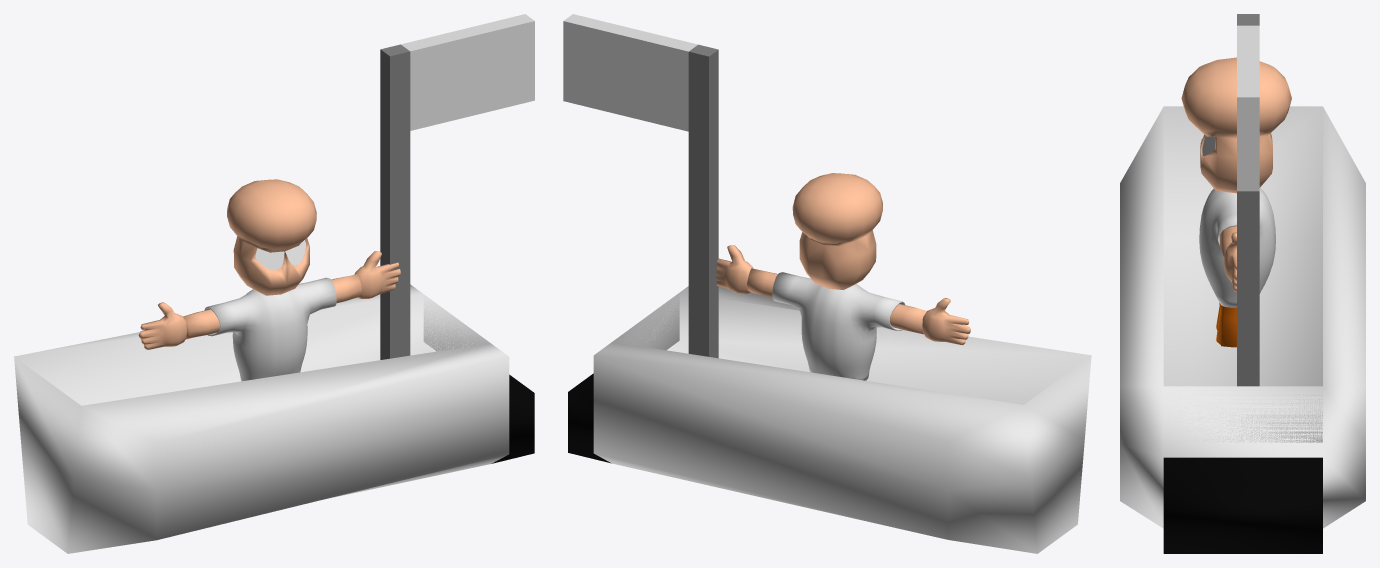
File: boatchuchu.fbx
The picture shows the model from 3 angles, left to right: view 1: azimuth 30°, elevation 25°; view 2: azimuth 150°, elevation 25°; view 3: azimuth 270°, elevation 25°; orthographic projection. The views are drawn at different scales.
Visible parts, largest first — view 1: Cube.001, Cube.007, Cube, Cube.005, Cube.003, Cube.002, Cube.004; view 2: Cube.001, Cube.007, Cube, Cube.005, Cube.003, Cube.002, Cube.004; view 3: Cube.001, Cube.007, Cube, Cube.005, Cube.006, Cube.004, Cube.002.
Boxes of the visible parts, x1,y1,x2,y2 form: Cube.001: (14,284,534,553); Cube.007: (380,14,534,359); Cube: (227,179,316,295); Cube.005: (204,277,336,381); Cube.003: (138,302,186,349); Cube.002: (183,274,361,339); Cube.004: (354,251,400,298); Cube.001: (568,286,1091,553); Cube.007: (563,14,718,358); Cube: (792,173,882,289); Cube.005: (772,272,905,380); Cube.003: (922,298,970,345); Cube.002: (747,268,926,334); Cube.004: (716,245,753,293); Cube.001: (1120,106,1365,553); Cube.007: (1237,14,1259,386); Cube: (1181,57,1291,193); Cube.005: (1199,188,1275,307); Cube.006: (1216,306,1236,347); Cube.004: (1223,232,1236,292); Cube.002: (1219,226,1236,315).
Bounding box in the file's own units: 1583 × 1255 × 589.
